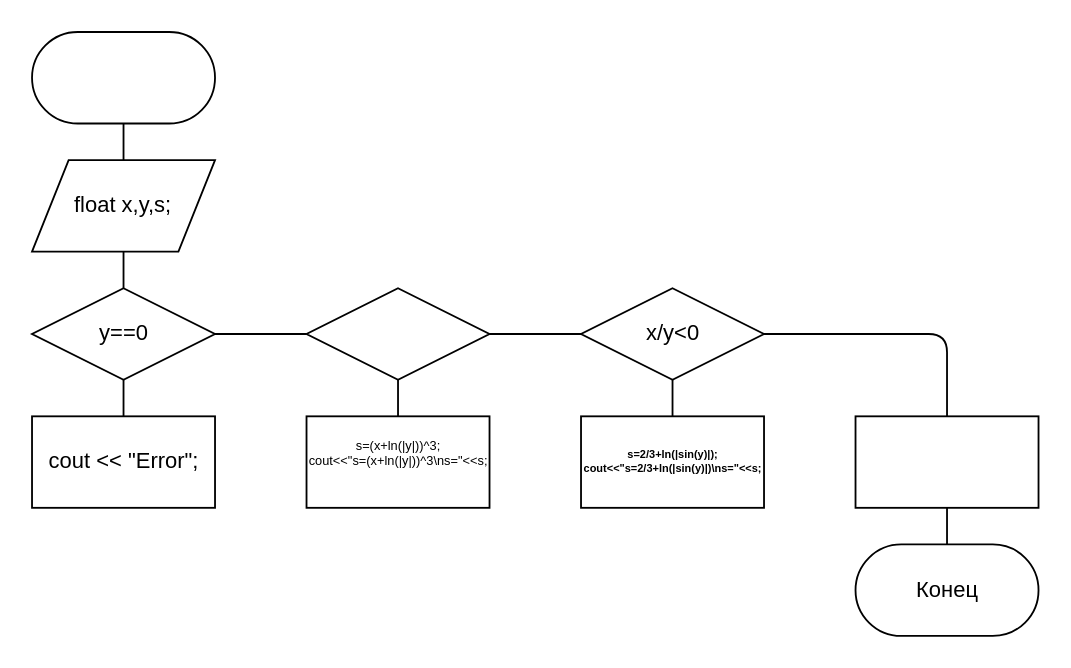
Some shapes in this 1071 by 668 pixel diagram are drawn without their labels. Here are the shapes that lost their labels. From the top down, the centre of each, then its label:
point 122,77: Начало
point 397,333: x/y>0
point 946,461: s = y + x^(2/3); cout << "s = y + x^(2/3) \ns=" << s;
